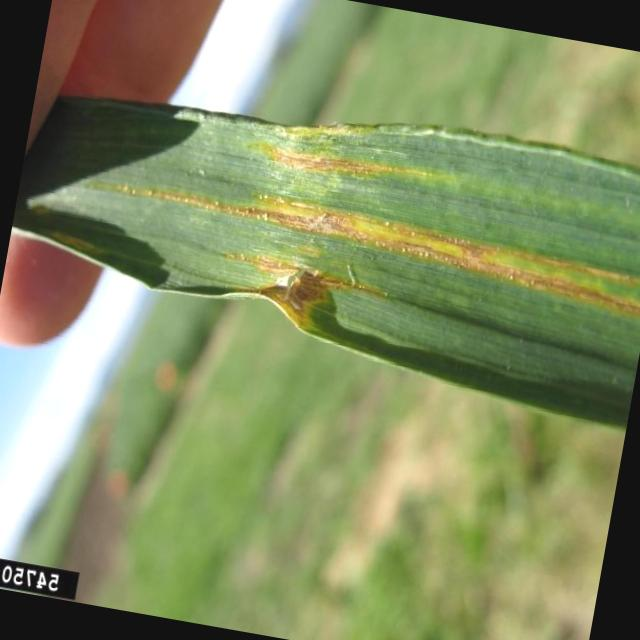leaf_blight: (12, 97, 640, 427)
